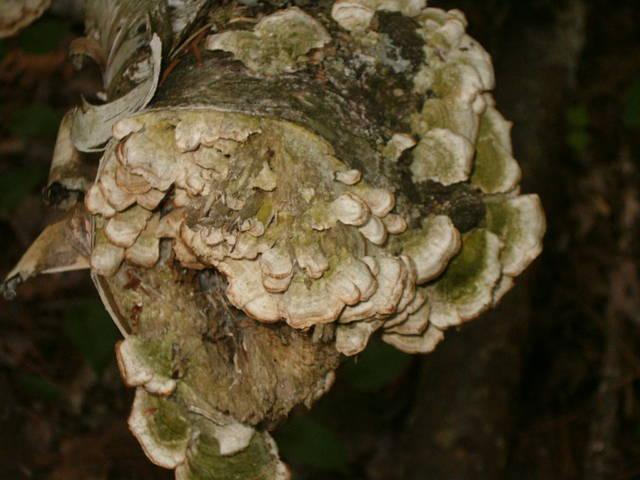poisonous_mushroom: (0, 0, 548, 479)
